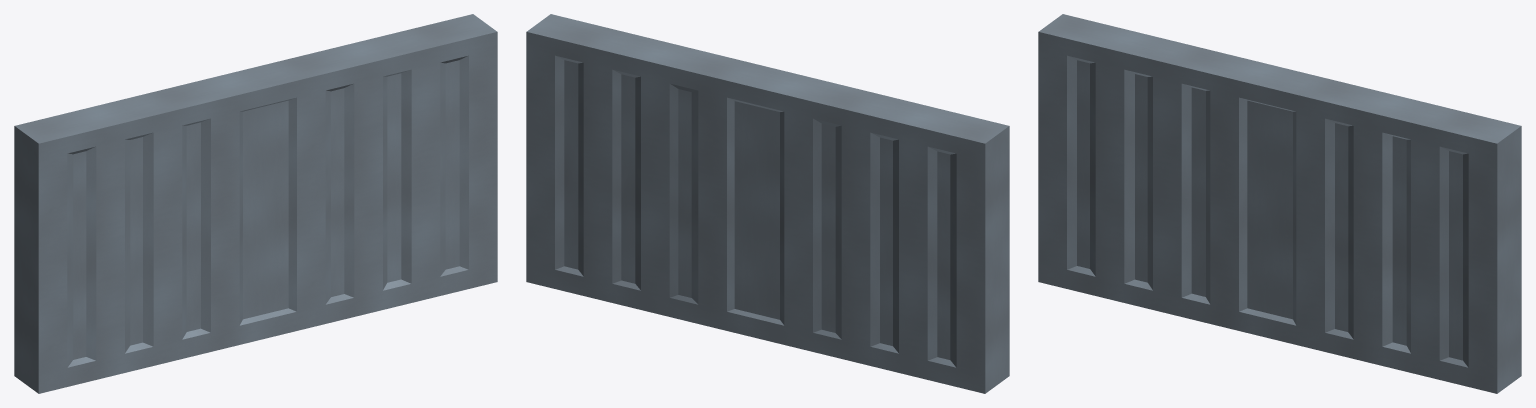
The model's file is Gate.gltf.
The picture shows the model from 3 angles, left to right: view 1: azimuth 30°, elevation 25°; view 2: azimuth 150°, elevation 25°; view 3: azimuth 330°, elevation 25°; orthographic projection.
Visible parts, largest first — view 1: Cube.001; view 2: Cube.001; view 3: Cube.001.
Part boxes in pixels (x1=…): Cube.001: x1=14, y1=14, x2=497, y2=393; Cube.001: x1=526, y1=14, x2=1009, y2=393; Cube.001: x1=1038, y1=14, x2=1521, y2=393.
Bounding box in the file's own units: 7.62 × 3.98 × 0.7007.
1 material, 1 textured.
